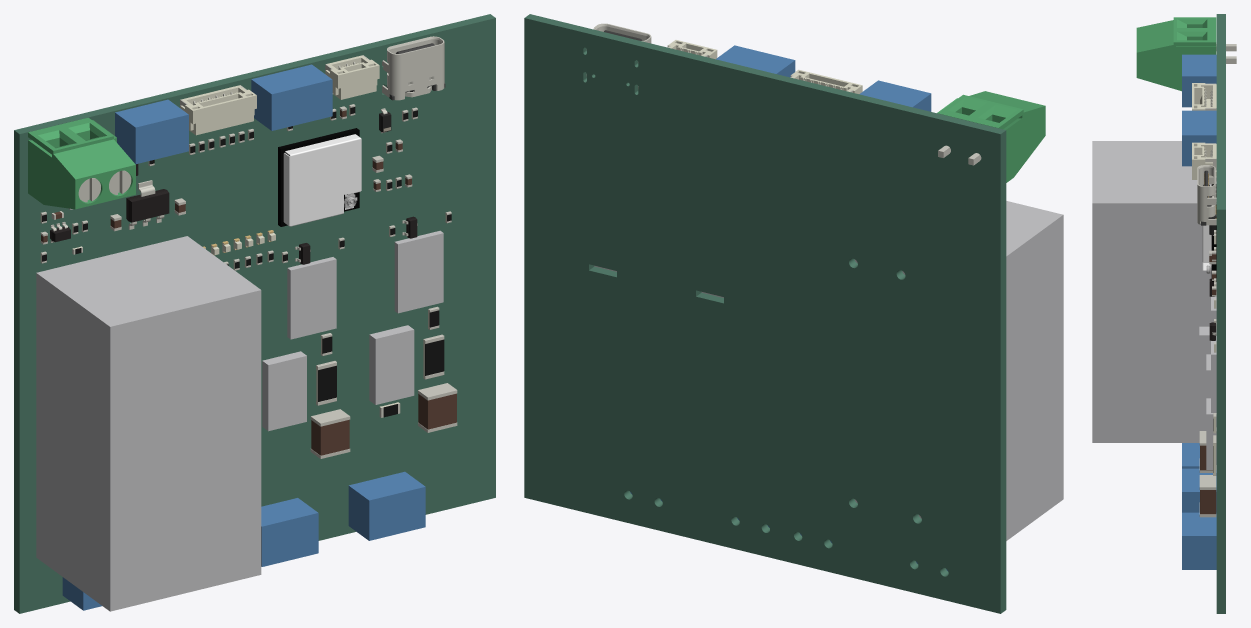
The model's file is board.glb.
3 renders of one model, left to right at view 1: azimuth 30°, elevation 25°; view 2: azimuth 150°, elevation 25°; view 3: azimuth 270°, elevation 25°, orthographic. The views are drawn at different scales.
Visible parts, largest first — view 1: =>[0:1:1:34], PS1, =>[0:1:1:7]_b6b14f, =>[0:1:1:13]_717f0c, J15, J10, J2, U9, U8, J14, Q6, Q5 (+9 smaller); view 2: =>[0:1:1:34], PS1, =>[0:1:1:7]_b6b14f, J10, J2, =>[0:1:1:27]; view 3: PS1, =>[0:1:1:34], =>[0:1:1:7]_b6b14f, J15, J10, J2, =>[0:1:1:19]_b376e7, J14, F1, =>[0:1:1:27], =>[0:1:1:31]_ed2aeb, Q6 (+6 smaller).
Boxes of the visible parts, x1,y1,x2,y2 form: =>[0:1:1:34]: (14,14,495,613); PS1: (36,236,261,611); =>[0:1:1:7]_b6b14f: (28,117,135,209); =>[0:1:1:13]_717f0c: (283,134,361,226); J15: (348,471,425,540); J10: (251,64,332,130); J2: (115,99,188,164); U9: (394,230,443,313); U8: (287,257,336,339); J14: (261,498,318,566); Q6: (369,325,414,404); Q5: (262,351,306,431); =>[0:1:1:34]: (524,14,1006,613); PS1: (854,201,1063,540); =>[0:1:1:7]_b6b14f: (937,91,1045,182); J10: (716,45,795,77); J2: (859,80,931,111); =>[0:1:1:27]: (790,69,862,93); PS1: (1092,141,1216,442); =>[0:1:1:34]: (1216,14,1225,613); =>[0:1:1:7]_b6b14f: (1136,17,1216,91); J15: (1182,512,1216,569); J10: (1182,110,1216,166); J2: (1182,54,1216,107); =>[0:1:1:19]_b376e7: (1197,165,1216,225); J14: (1182,468,1216,512); F1: (1199,326,1210,401); =>[0:1:1:27]: (1192,83,1216,110); =>[0:1:1:31]_ed2aeb: (1192,142,1216,179); Q6: (1206,398,1216,469).
Bounding box in the file's own units: 80 × 77 × 24.95.
